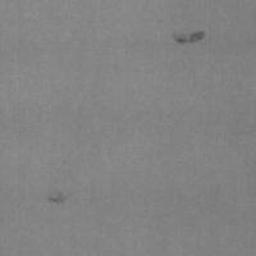Inclusion: (170, 29, 207, 45), (47, 187, 73, 205)
